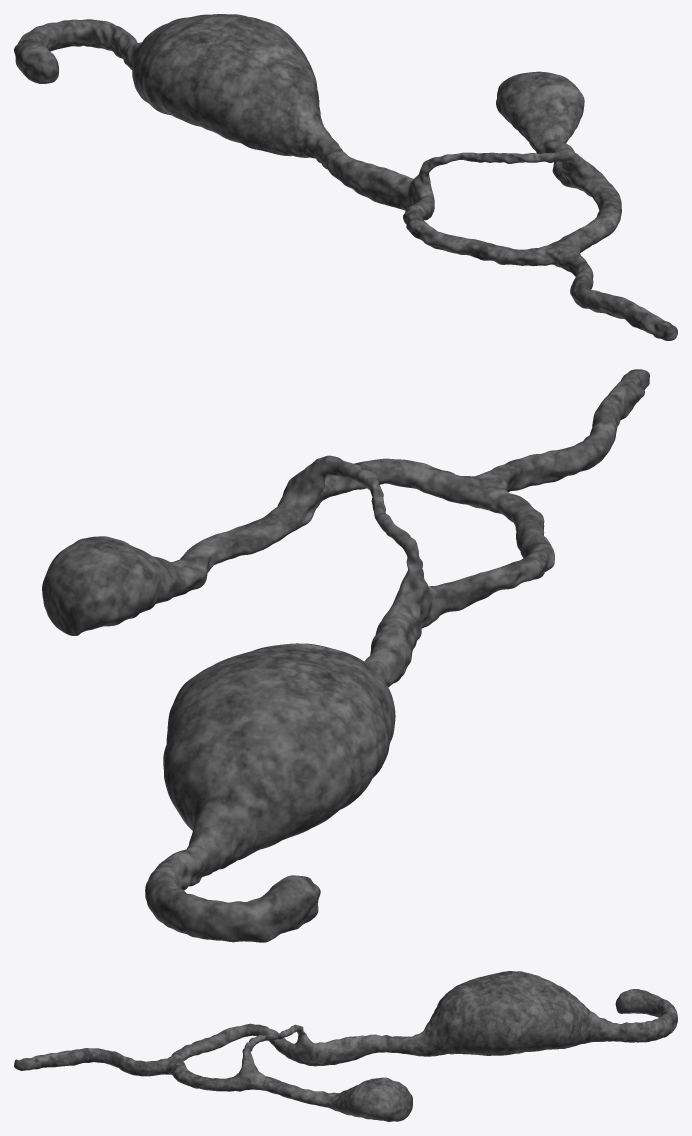
Rendered from Cave.fbx.
3 views of the same model, one above another, from view 1: azimuth 30°, elevation 25°; view 2: azimuth 150°, elevation 25°; view 3: azimuth 270°, elevation 25° (orthographic). The views are drawn at different scales.
Parts seen in each view (by area): view 1: Cube; view 2: Cube; view 3: Cube.
Part boxes in pixels (bbox=[...]): Cube: bbox=[14, 14, 677, 340]; Cube: bbox=[42, 369, 649, 942]; Cube: bbox=[14, 971, 677, 1121].
Bounding box in the file's own units: 4314 × 9542 × 1091.
1 material, 1 textured.
